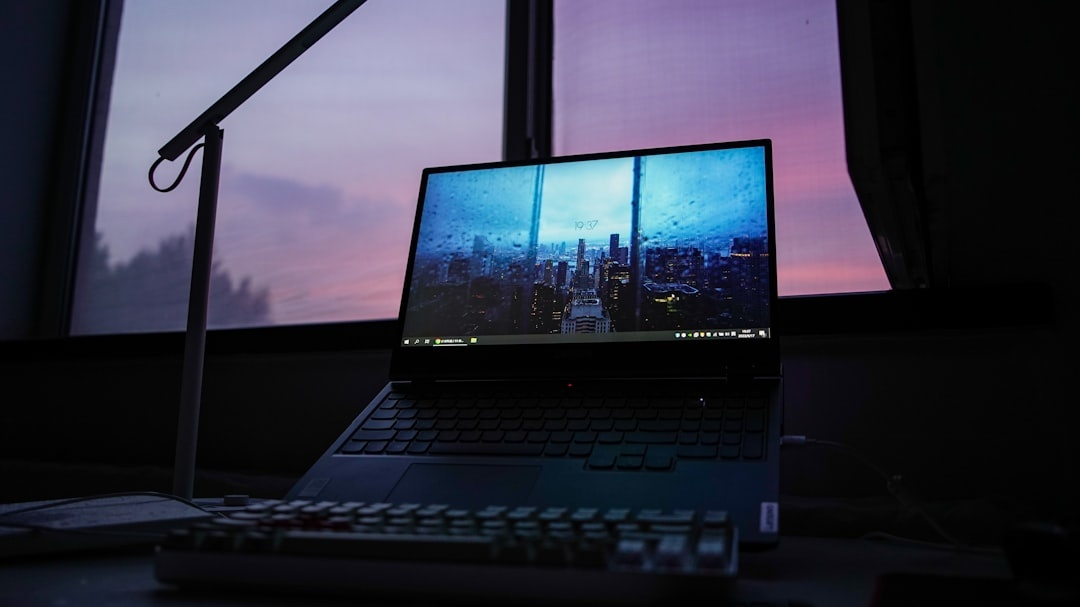laptop: (270, 134, 809, 554)
